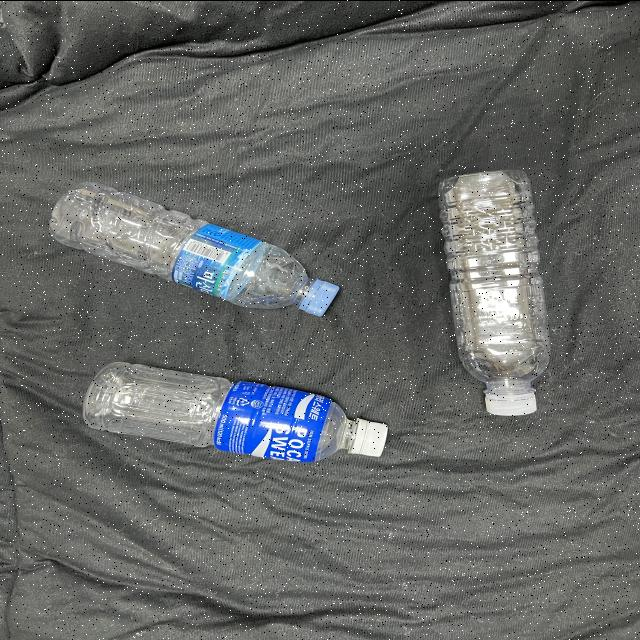plastic: (35, 169, 362, 333), (68, 347, 405, 482), (427, 155, 560, 424)
